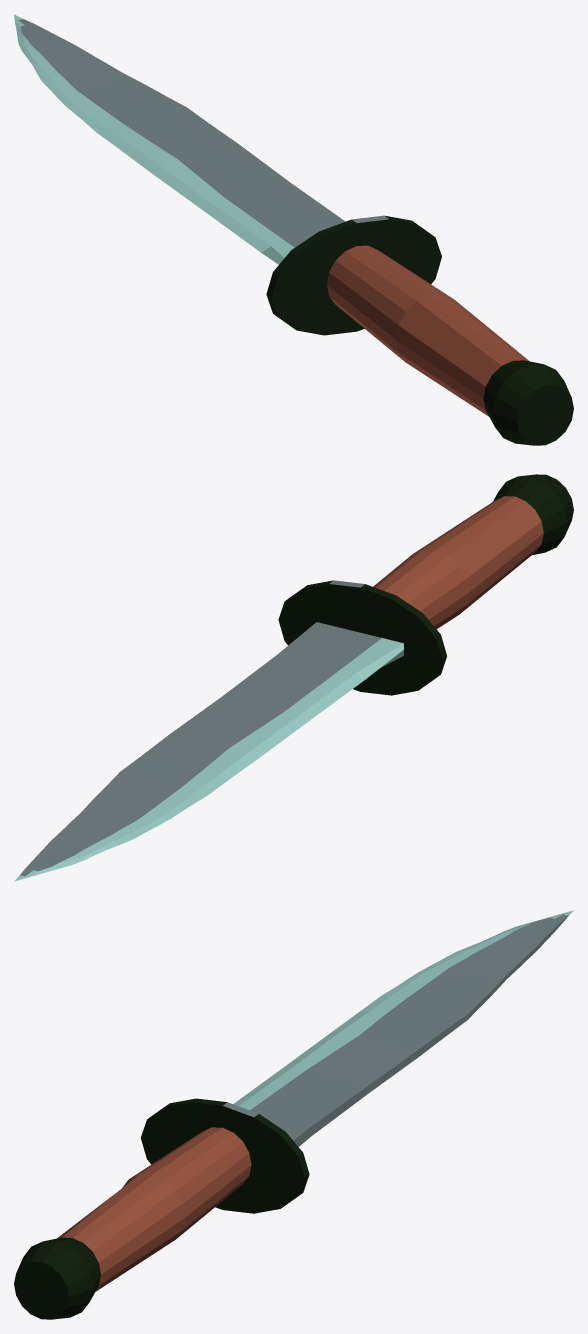
File: Spyknife.fbx
3 renders of one model, top to bottom at view 1: azimuth 30°, elevation 25°; view 2: azimuth 150°, elevation 25°; view 3: azimuth 330°, elevation 25°, orthographic. The views are drawn at different scales.
Parts seen in each view (by area): view 1: Cube; view 2: Cube; view 3: Cube.
Part boxes in pixels (box(x1,y1,x2,y2)): Cube: box(14, 14, 573, 445); Cube: box(14, 474, 573, 881); Cube: box(14, 910, 573, 1319).
Bounding box in the file's own units: 212 × 129 × 1169.
